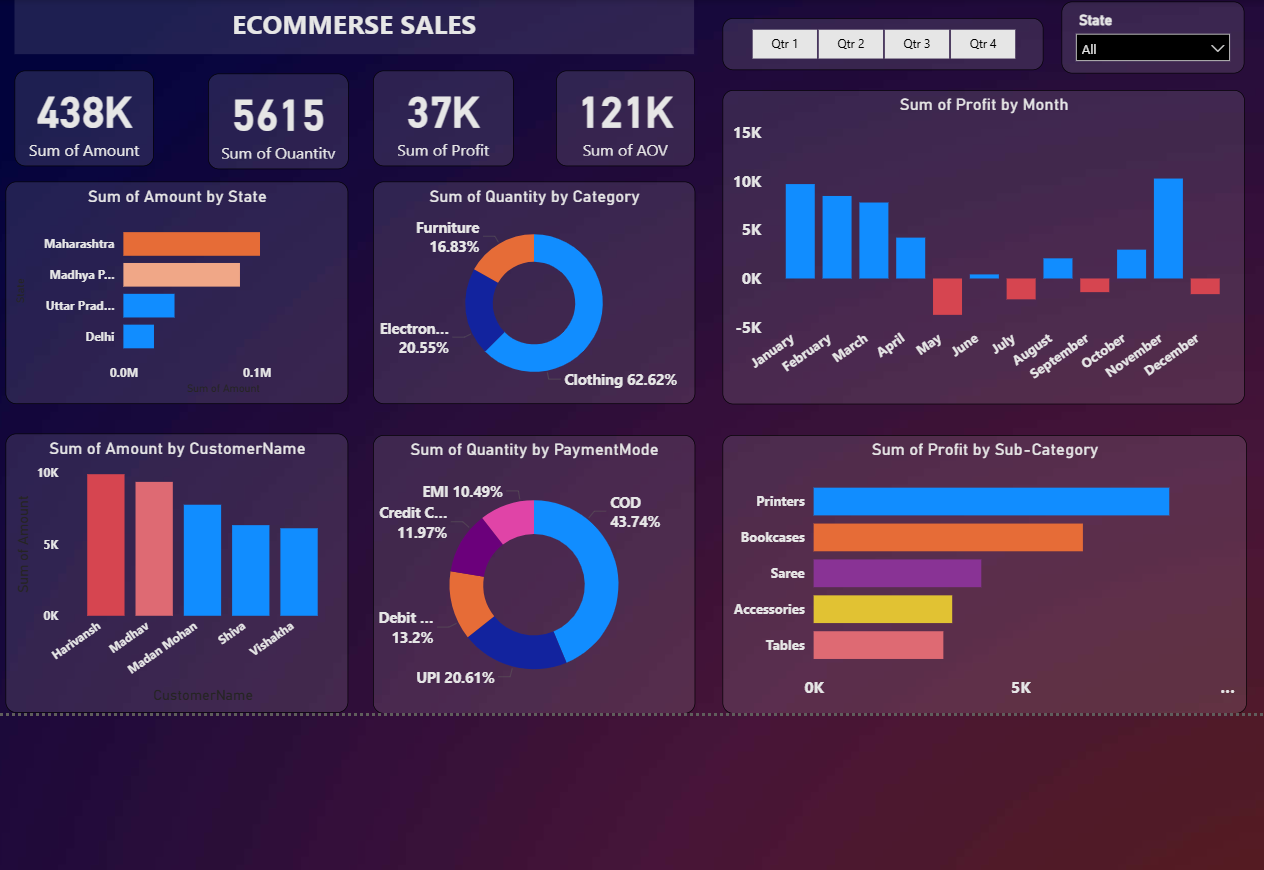

Layout of this report page (visuals, bound fields, positions):
{"tool":"powerbi","page":{"name":"Page 1","canvas":[1280,720],"ordinal":0},"visuals":[{"type":"textbox","box":[17,0,686,54.8],"z":0},{"type":"columnChart","fields":{"Category":["Orders.Order Date.Variation.Date Hierarchy.Month"],"Y":["Details.Profit"]},"box":[731.3,90.7,527.2,317.5],"z":1000},{"type":"barChart","fields":{"Category":["Details.Sub-Category"],"Y":["Details.Profit"]},"box":[731.3,438.4,529.1,281.6],"z":2000},{"type":"donutChart","fields":{"Category":["Details.Category"],"Y":["Details.Quantity"]},"box":[378,183.3,325,224.9],"z":3000},{"type":"donutChart","fields":{"Category":["Details.PaymentMode"],"Y":["Details.Quantity"]},"box":[378,438.4,325,281.6],"z":4000},{"type":"card","fields":{"Values":["Details.Amount"]},"box":[16.7,71.2,140.8,96.9],"z":5000},{"type":"card","fields":{"Values":["Details.Quantity"]},"box":[211.7,73.7,141.7,96.4],"z":6000},{"type":"card","fields":{"Values":["Details.Profit"]},"box":[378,71.8,141.7,96.4],"z":7000},{"type":"card","fields":{"Values":["Details.AOV"]},"box":[563.2,71.8,139.8,96.4],"z":8000},{"type":"clusteredBarChart","fields":{"Category":["Orders.State"],"Y":["Details.Amount"]},"box":[7.6,183.3,345.8,224.9],"z":9000},{"type":"columnChart","fields":{"Category":["Orders.CustomerName"],"Y":["Details.Amount"]},"box":[8,438,346,282],"z":10000},{"type":"slicer","fields":{"Values":["Orders.Order Date.Variation.Date Hierarchy.Quarter"]},"box":[731.4,18.2,324,53],"z":11000},{"type":"slicer","fields":{"Values":["Orders.State"]},"box":[1073.6,1.5,184.7,72.7],"z":12000}]}

Visuals, with their boxes on the page's 1280x720 design canvas (x1, y1, x2, y2). These are canvas units, not pixel positions in the 1264x870 screenshot, which may show the page scaled, cropped or inside an application window:
textbox: bbox=(17, 0, 703, 55)
columnChart - Orders.Order Date.Variation.Date Hierarchy.Month x Details.Profit: bbox=(731, 91, 1258, 408)
barChart - Details.Sub-Category x Details.Profit: bbox=(731, 438, 1260, 720)
donutChart - Details.Category x Details.Quantity: bbox=(378, 183, 703, 408)
donutChart - Details.PaymentMode x Details.Quantity: bbox=(378, 438, 703, 720)
card - Details.Amount: bbox=(17, 71, 158, 168)
card - Details.Quantity: bbox=(212, 74, 353, 170)
card - Details.Profit: bbox=(378, 72, 520, 168)
card - Details.AOV: bbox=(563, 72, 703, 168)
clusteredBarChart - Orders.State x Details.Amount: bbox=(8, 183, 353, 408)
columnChart - Orders.CustomerName x Details.Amount: bbox=(8, 438, 354, 720)
slicer - Orders.Order Date.Variation.Date Hierarchy.Quarter: bbox=(731, 18, 1055, 71)
slicer - Orders.State: bbox=(1074, 2, 1258, 74)
